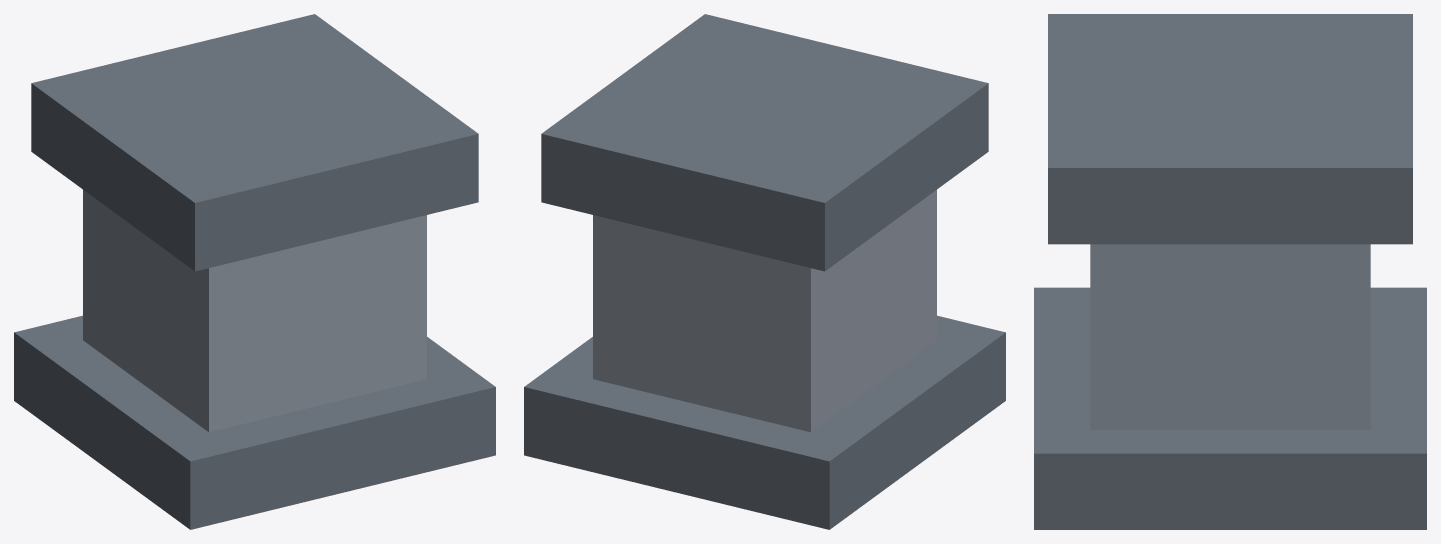
Rendered from socket.glb.
The picture shows the model from 3 angles, left to right: view 1: azimuth 30°, elevation 25°; view 2: azimuth 150°, elevation 25°; view 3: azimuth 270°, elevation 25°; orthographic projection. The views are drawn at different scales.
Visible parts, largest first — view 1: Socket; view 2: Socket; view 3: Socket.
Boxes of the visible parts, <box> form: Socket: <box>14,14,495,529</box>; Socket: <box>524,14,1005,529</box>; Socket: <box>1034,14,1426,529</box>.
Size of the model in its own units: 0.56 by 0.56 by 0.56.
